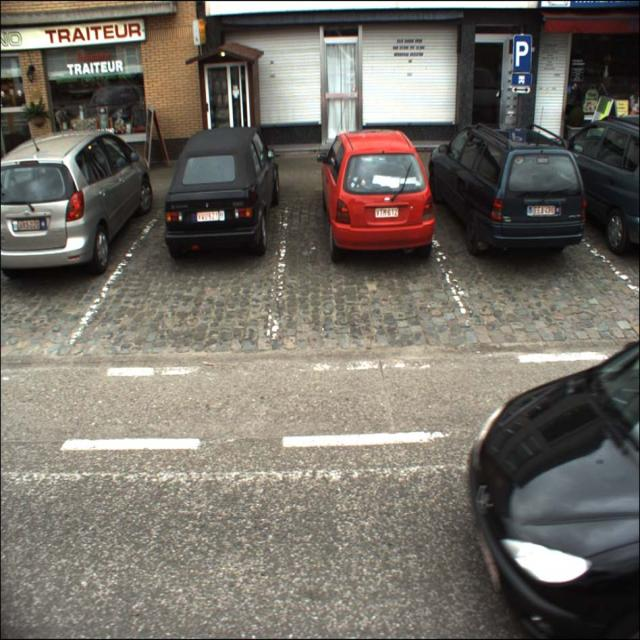park: (512, 34, 532, 73)
